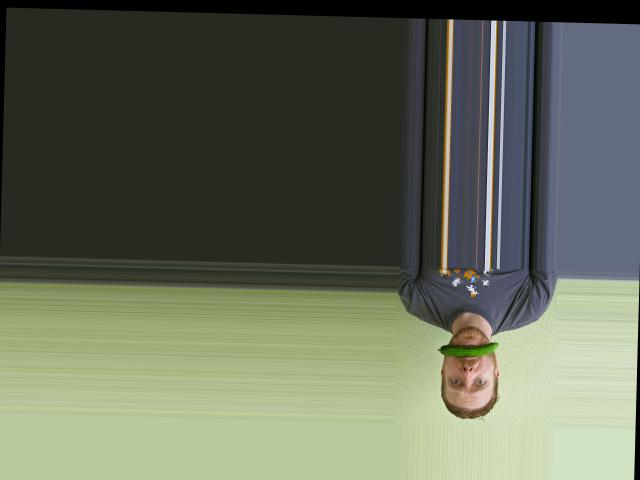cucumber: (437, 340, 499, 357)
